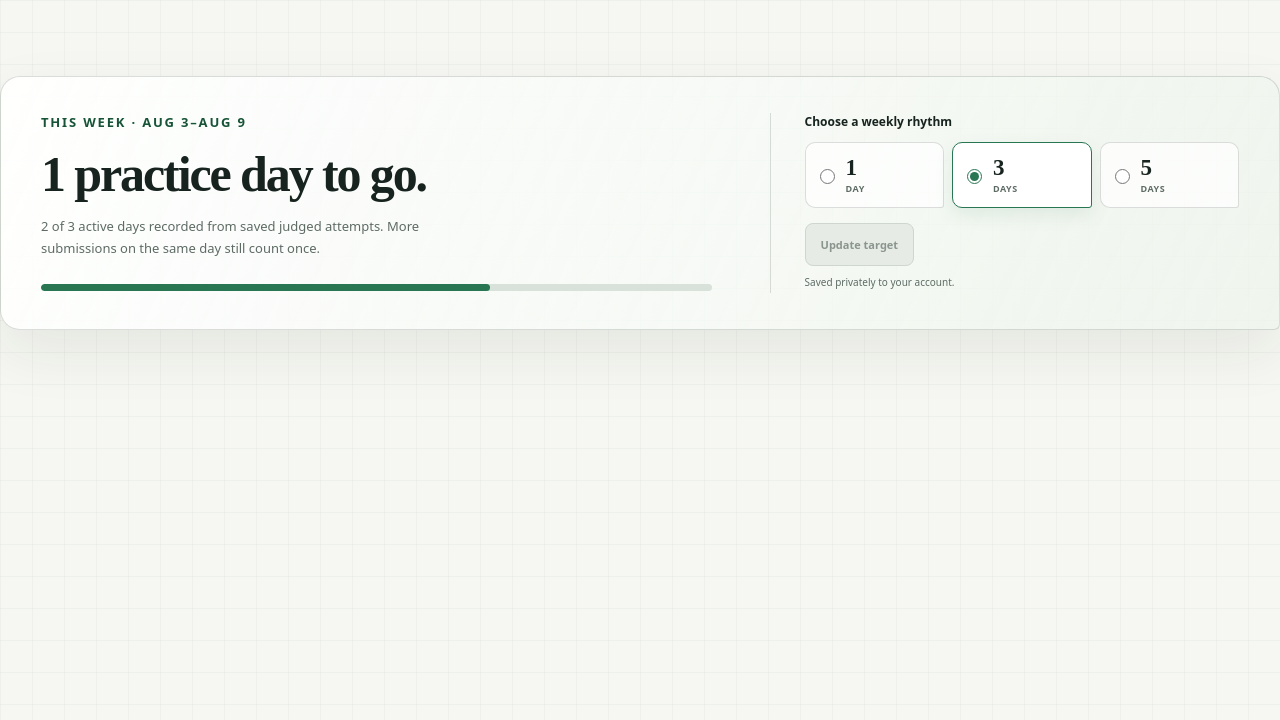
Test: CodingPracticeGoal › updates the visible target only after a confirmed private save
Step 1. Click the radio button labelled "5 days" → (1122, 176), box x1=1114 y1=169 x2=1130 y2=184
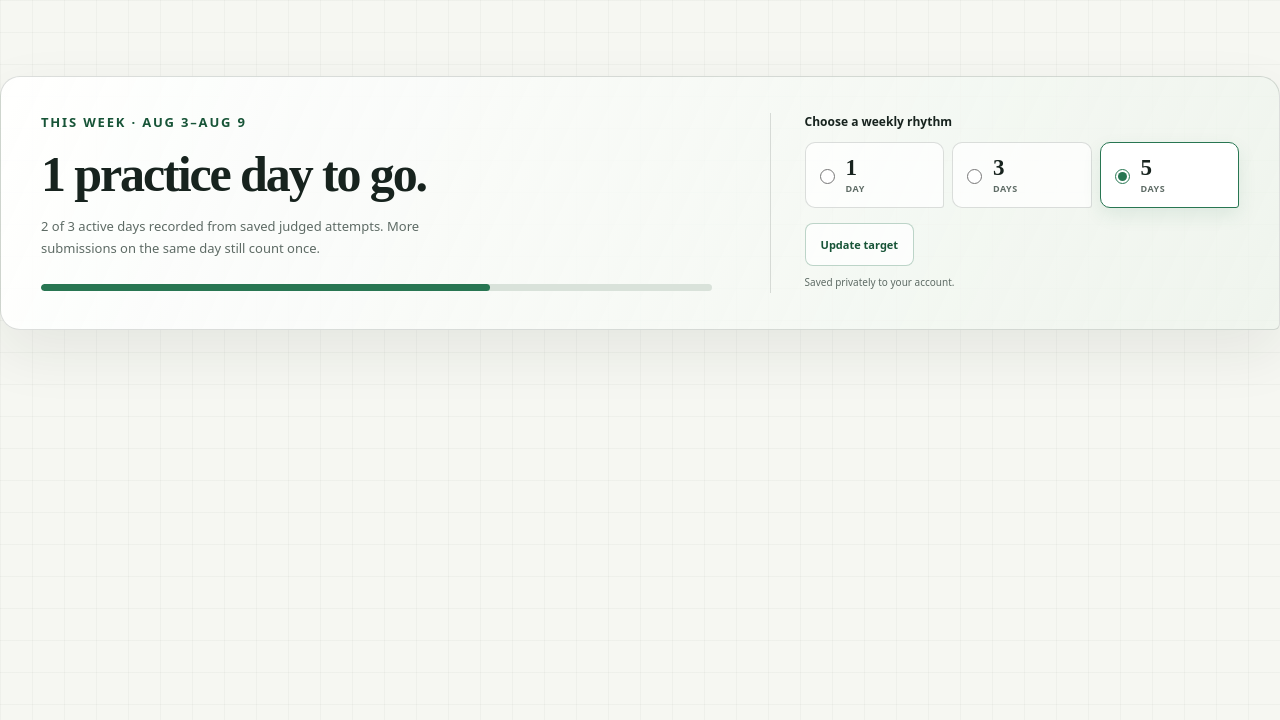
Step 2. Click the button "Update target" → (859, 244), box x1=805 y1=223 x2=914 y2=266
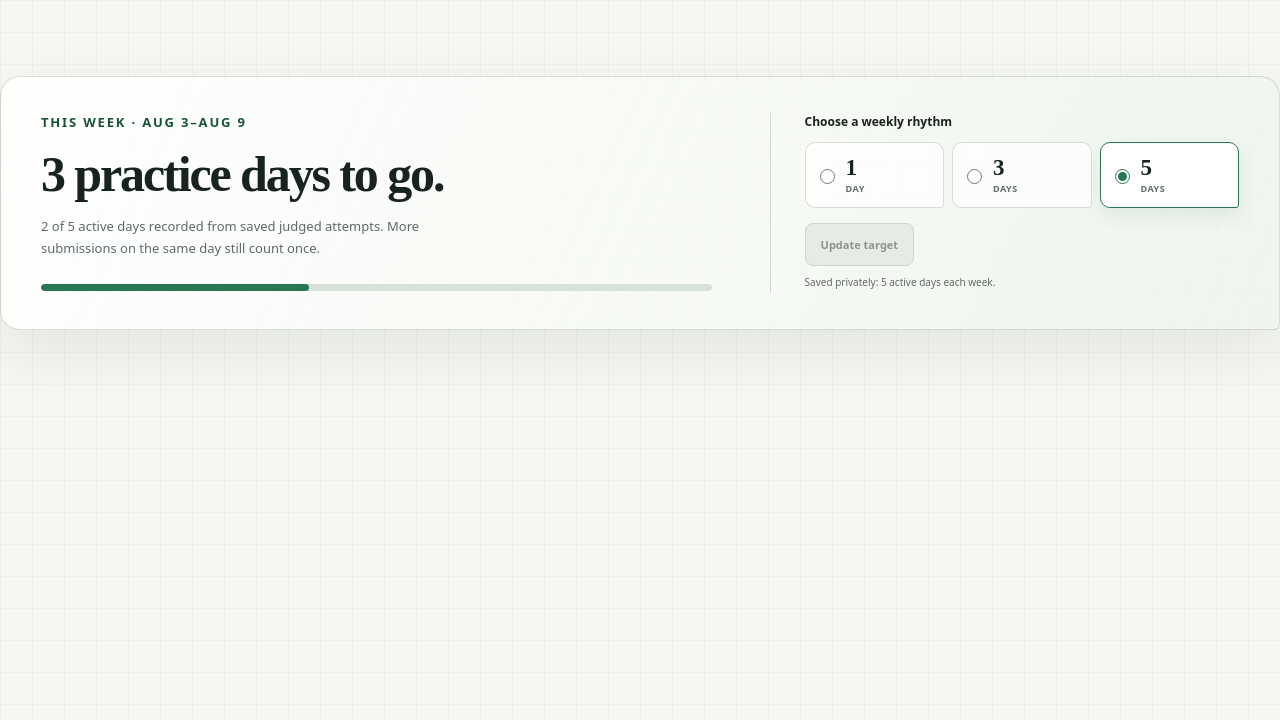
Expected: the text "Saved privately: 5 active days each week." is shown, x1=805 y1=275 x2=995 y2=289
Expected: the heading "3 practice days to go." is shown, x1=41 y1=146 x2=443 y2=202
